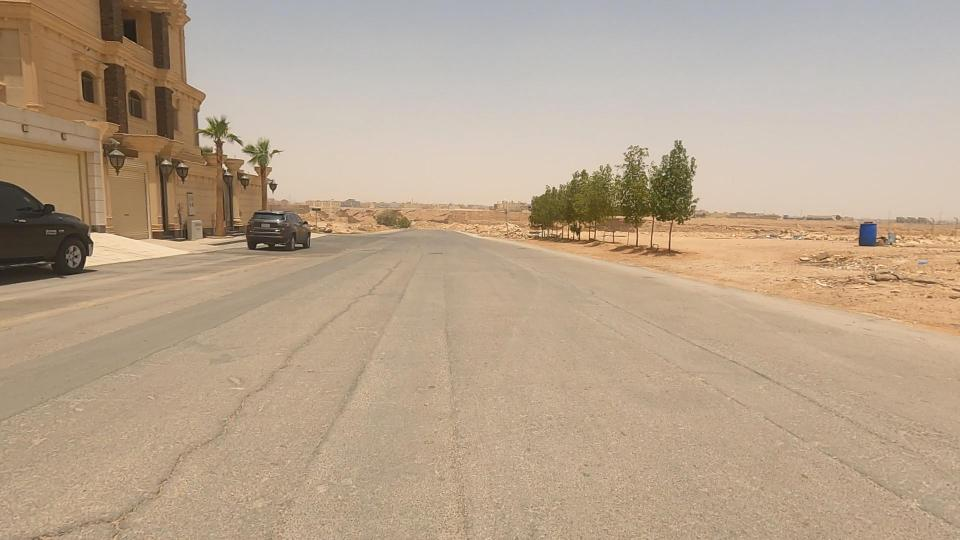GARBAGE: (835, 197, 894, 260), (895, 238, 950, 286), (870, 220, 926, 260)
